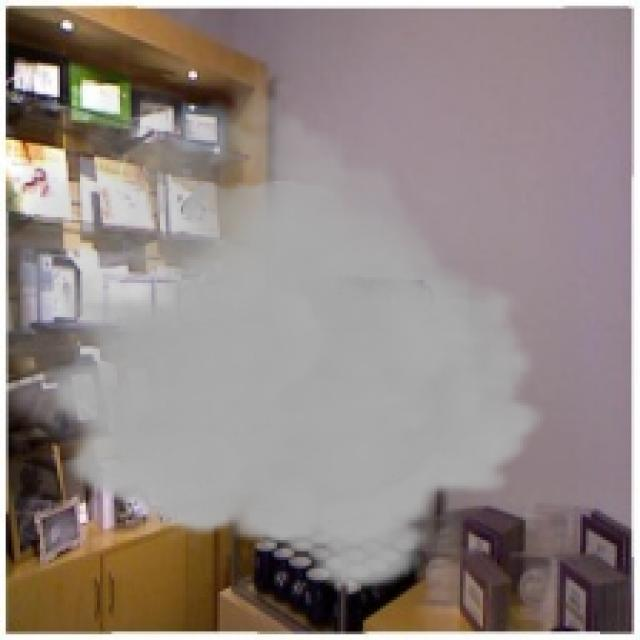Smoke: (6, 66, 546, 594)
